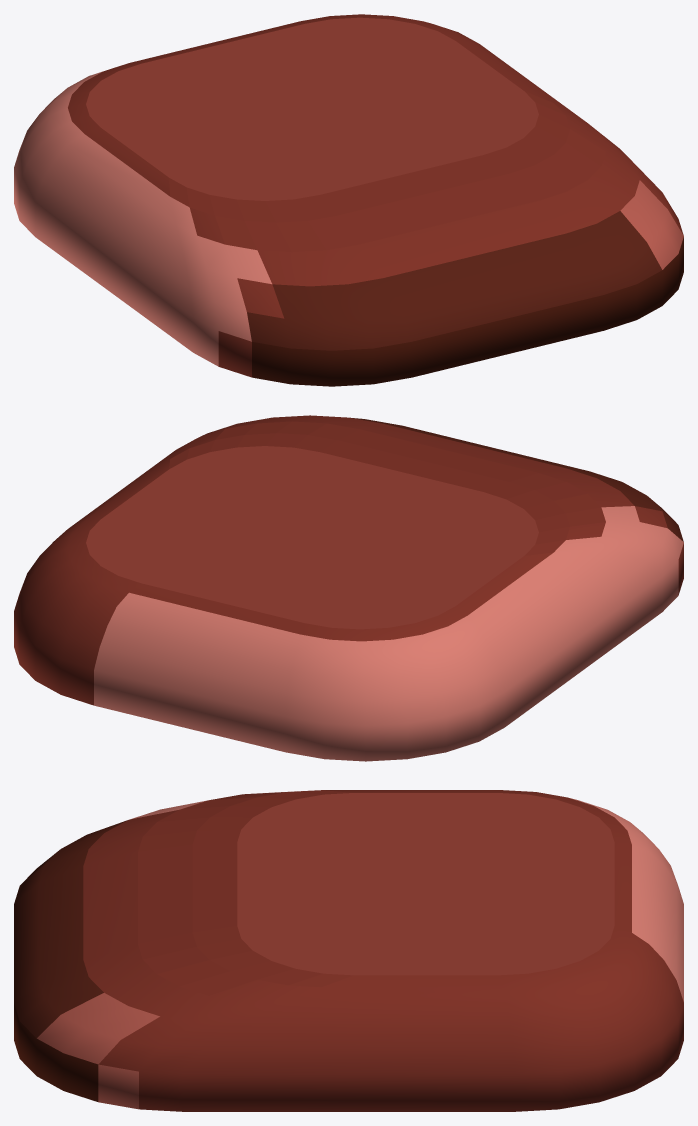
Rendered from newshm-1.glb.
3 renders of one model, top to bottom at view 1: azimuth 30°, elevation 25°; view 2: azimuth 150°, elevation 25°; view 3: azimuth 270°, elevation 25°, orthographic. The views are drawn at different scales.
Parts seen in each view (by area): view 1: newshm-1; view 2: newshm-1; view 3: newshm-1.
Boxes of the visible parts, x1,y1,x2,y2 form: newshm-1: (14, 14, 683, 386); newshm-1: (14, 415, 683, 761); newshm-1: (14, 790, 683, 1111).
Size of the model in its own units: 1.92 by 0.397 by 2.25.
